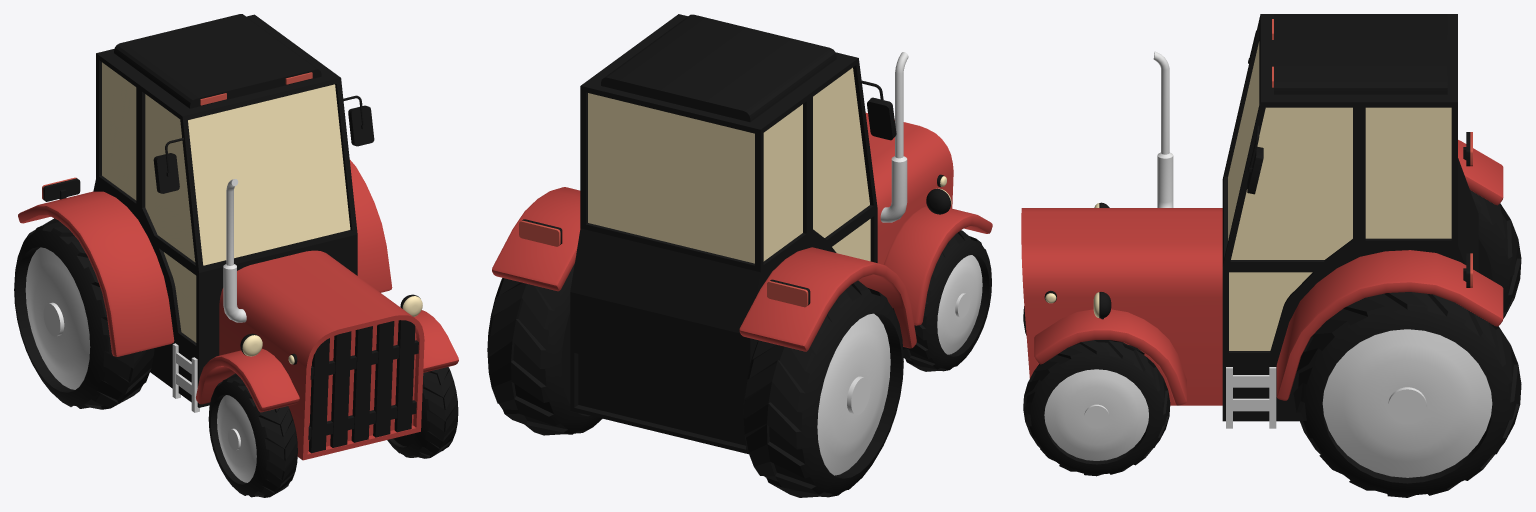
The model's file is Tractor.fbx.
3 renders of one model, left to right at view 1: azimuth 30°, elevation 25°; view 2: azimuth 150°, elevation 25°; view 3: azimuth 270°, elevation 25°, orthographic. The views are drawn at different scales.
Visible parts, largest first — view 1: Tractor; view 2: Tractor; view 3: Tractor.
Part boxes in pixels (x1=…): Tractor: x1=14, y1=14, x2=458, y2=497; Tractor: x1=487, y1=14, x2=992, y2=497; Tractor: x1=1021, y1=14, x2=1521, y2=497.
Size of the model in its own units: 21.14 by 23.17 by 27.57.
